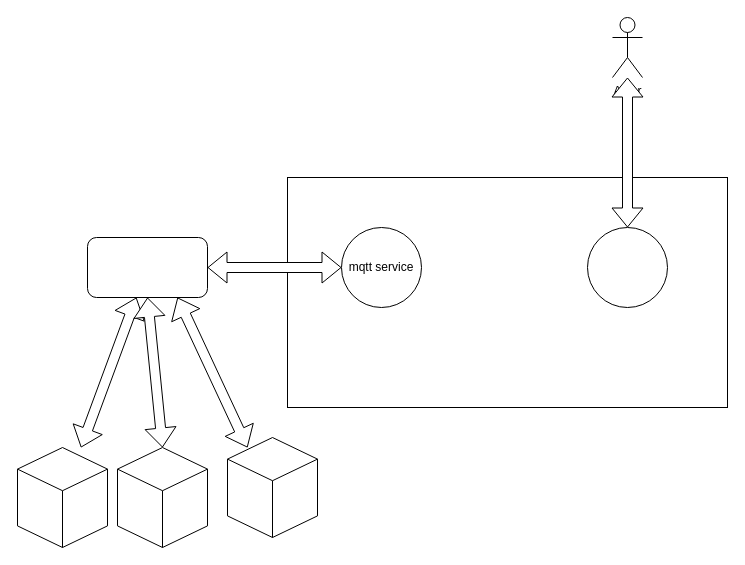
Some shapes in this 745 by 565 pixel diagram are drawn without their labels. Each missing label, with the centre of its shape:
"map service" goes at point (627, 267).
"mqtt broker" goes at point (147, 267).
